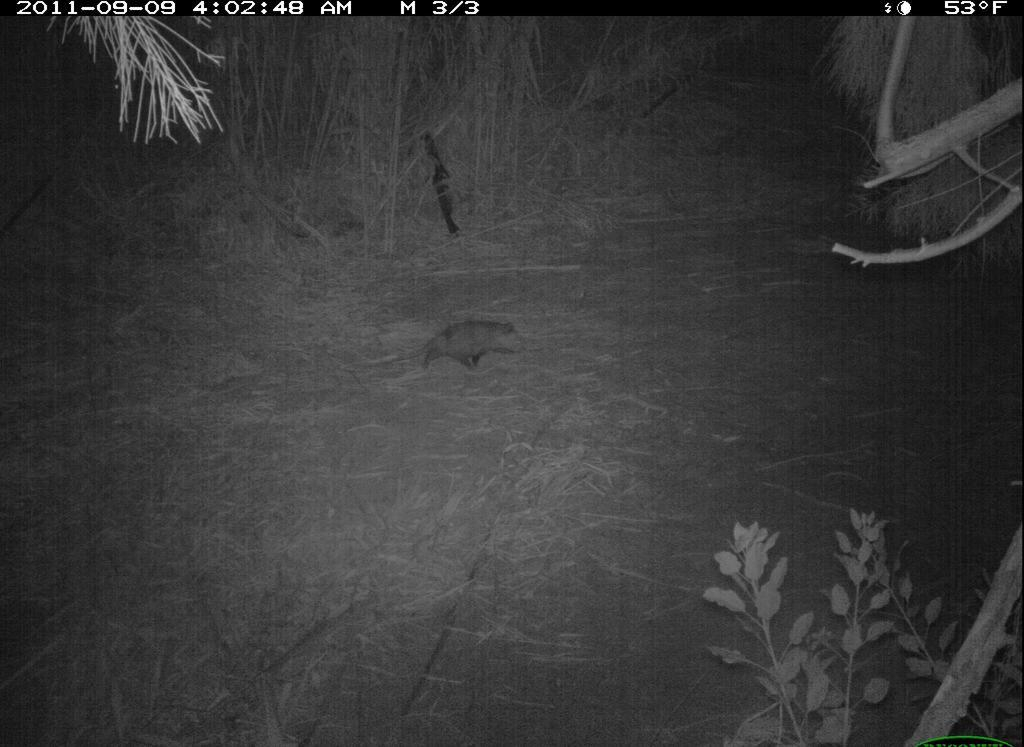opossum: (354, 309, 536, 381)
